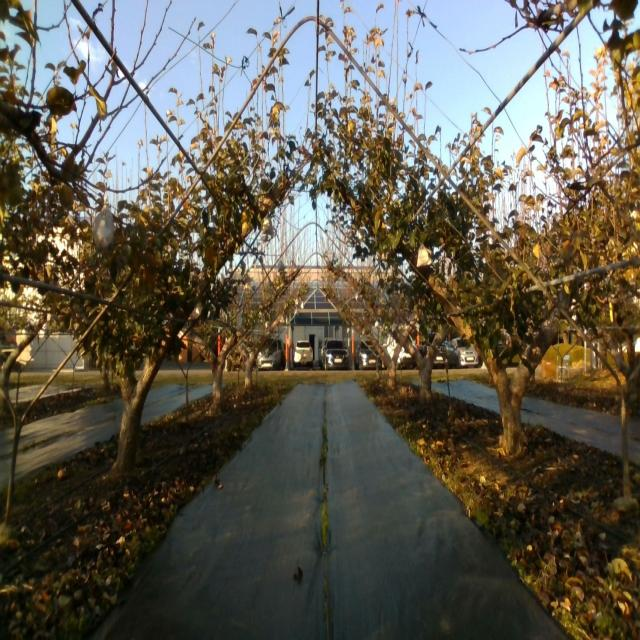pearbags: (93, 195, 115, 250), (417, 244, 432, 267), (262, 216, 274, 237)
